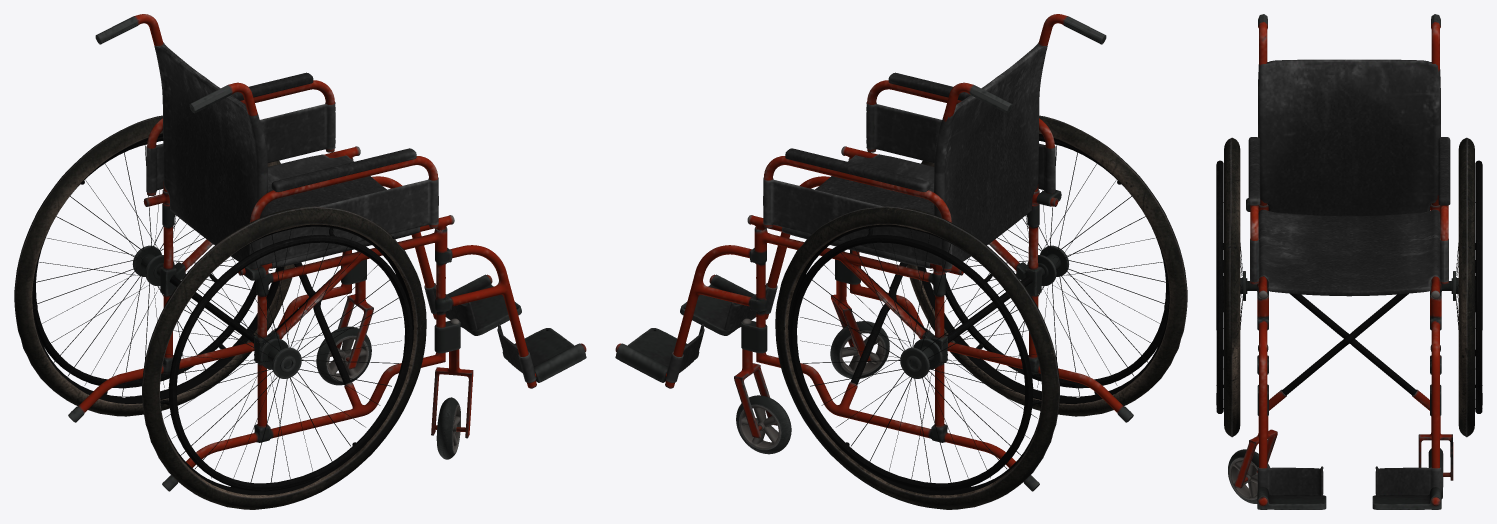
The model's file is wheel_chair.glb.
3 views of the same model, side by side, from view 1: azimuth 30°, elevation 25°; view 2: azimuth 150°, elevation 25°; view 3: azimuth 270°, elevation 25° (orthographic). The views are drawn at different scales.
Visible parts, largest first — view 1: Object_6, Object_7, Object_13, Object_8, Object_11, Object_9, Object_14, Object_10, Object_5, Object_15, Object_2, Object_4; view 2: Object_6, Object_7, Object_11, Object_8, Object_13, Object_9, Object_14, Object_10, Object_3, Object_4, Object_2, Object_15; view 3: Object_6, Object_7, Object_11, Object_8, Object_13, Object_12, Object_9, Object_10.
Part boxes in pixels (x1,y1,x2,y2): Object_6: (68,14,586,491); Object_7: (14,115,460,509); Object_13: (146,102,445,491); Object_8: (32,135,460,495); Object_11: (33,80,548,453); Object_9: (110,133,586,492); Object_14: (45,210,312,482); Object_10: (327,337,460,452); Object_5: (164,228,352,418); Object_15: (33,175,401,478); Object_2: (33,196,360,335); Object_4: (118,184,279,409); Object_6: (615,14,1133,491); Object_7: (738,115,1187,509); Object_11: (653,156,1072,491); Object_8: (741,135,1169,495); Object_13: (756,80,1168,446); Object_9: (615,133,1091,492); Object_14: (800,243,1134,482); Object_10: (739,331,884,449); Object_3: (849,228,989,385); Object_4: (841,192,1168,335); Object_2: (842,254,1041,418); Object_15: (918,203,1156,387); Object_6: (1223,14,1475,509); Object_7: (1224,137,1474,500); Object_11: (1223,160,1482,500); Object_8: (1218,160,1480,413); Object_13: (1216,160,1475,413); Object_12: (1223,202,1475,328); Object_9: (1227,246,1471,506); Object_10: (1229,453,1443,499).
Bounding box in the file's own units: 33.32 × 29.02 × 18.18.
Materials: 1 (1 with a texture image).
